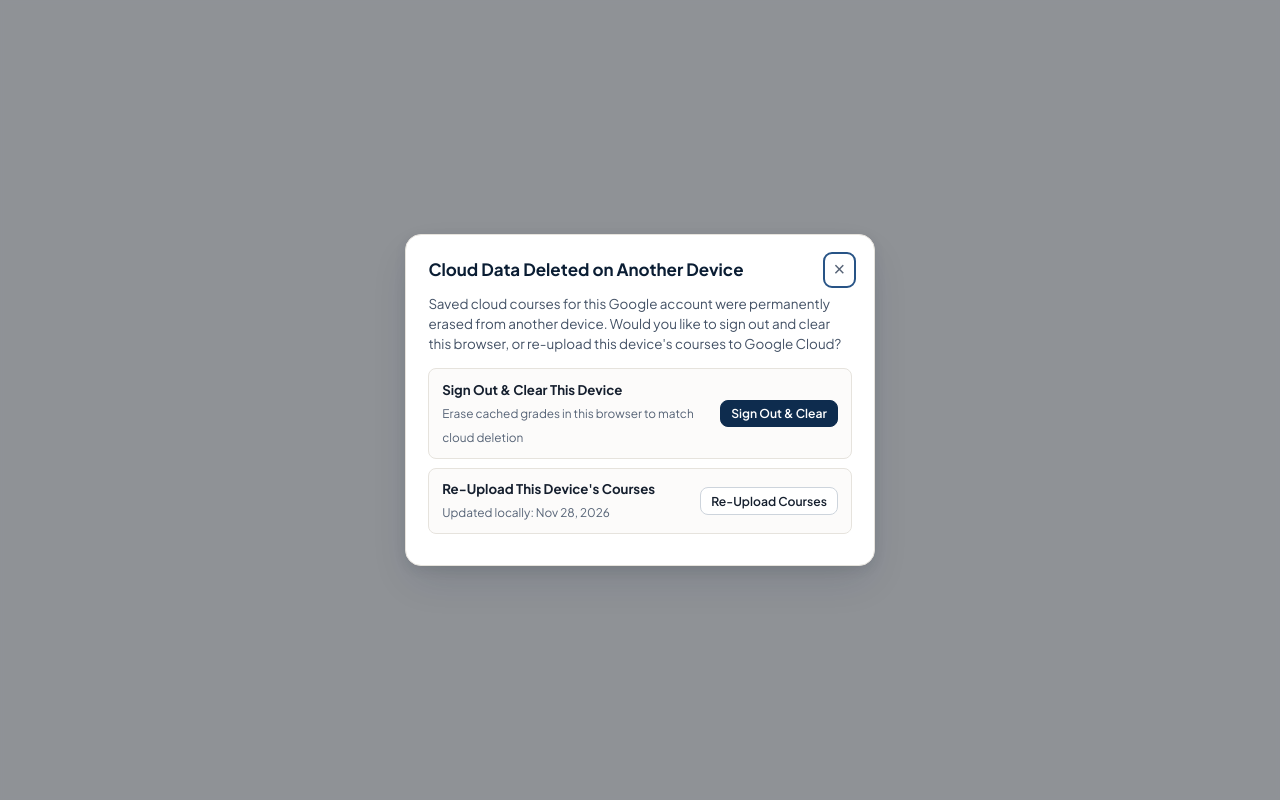
Test case: Grade Tracker React Application (M1 + M1.1 + Firebase Cloud Sync) › guards SyncConflictModal with busy state, surfaces inline errors, and renders remote-deleted options (#15)
Later steps or results of the test are not shown.
Check: the heading "Cloud Data Deleted on Another Device" is shown, box [428,257,744,283]
Click the button "Re-Upload Courses" at point(769, 501), box [700,487,838,515]
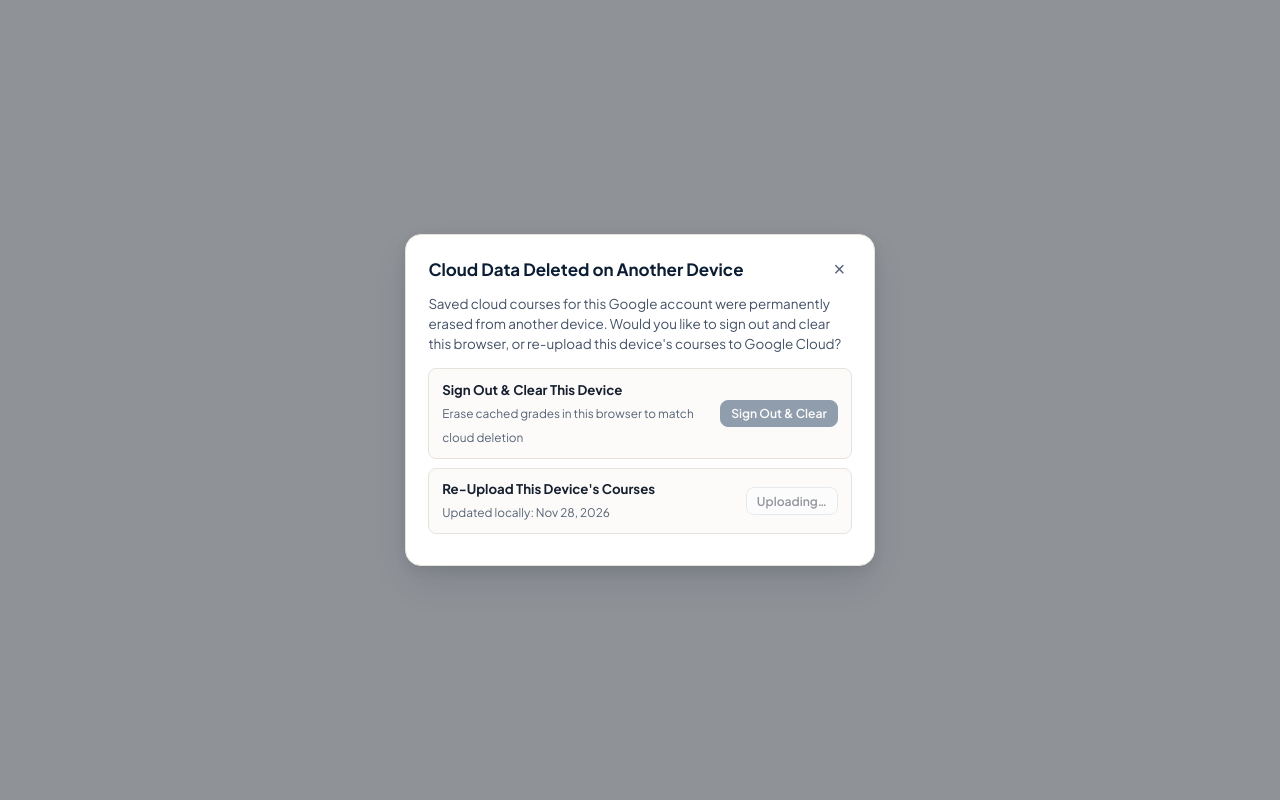
Check: the button "Uploading…" is disabled, box [746,487,838,515]
Check: the button "Sign Out & Clear" is disabled
Click the button "Sign Out & Clear" at point(779, 414), box [720,400,838,427]
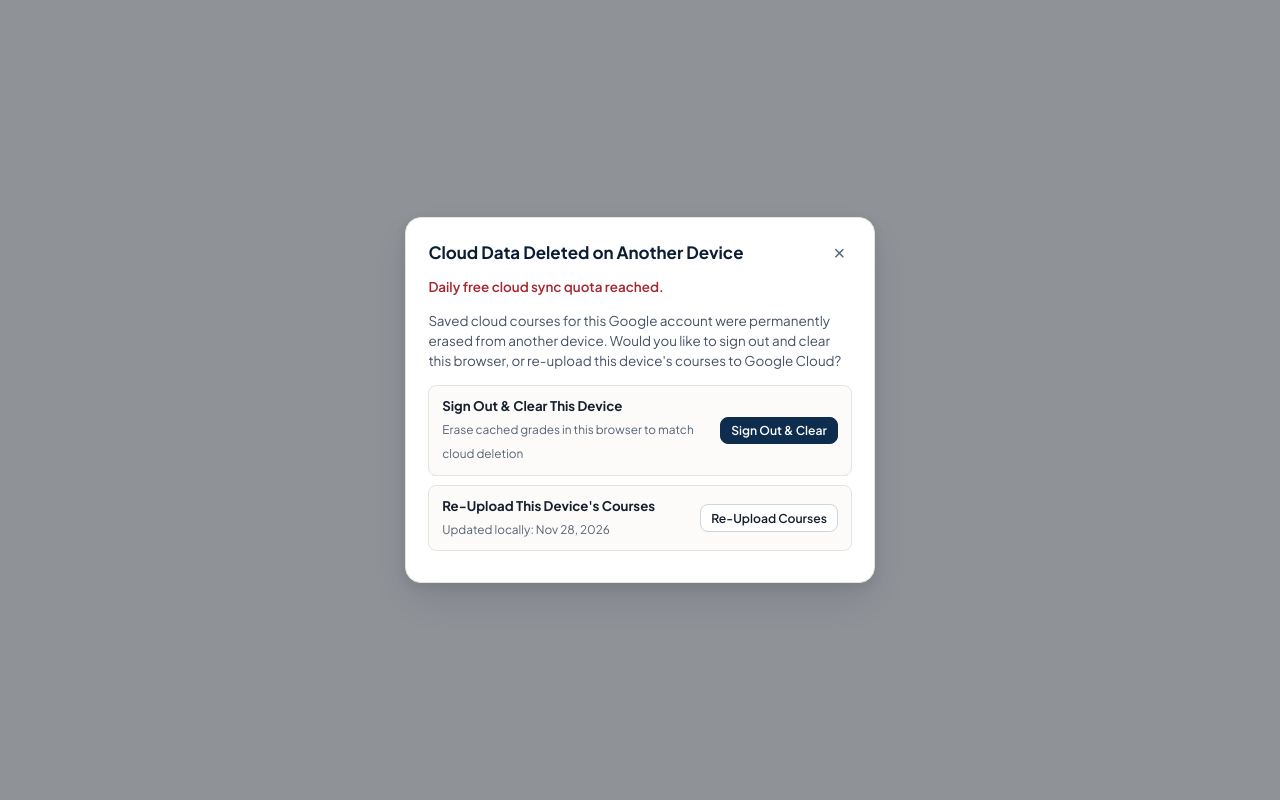
Check: the message shows "Daily free cloud sync quota reached", box [428,278,664,295]
Check: the button "Re-Upload Courses" is enabled, box [700,504,838,532]
